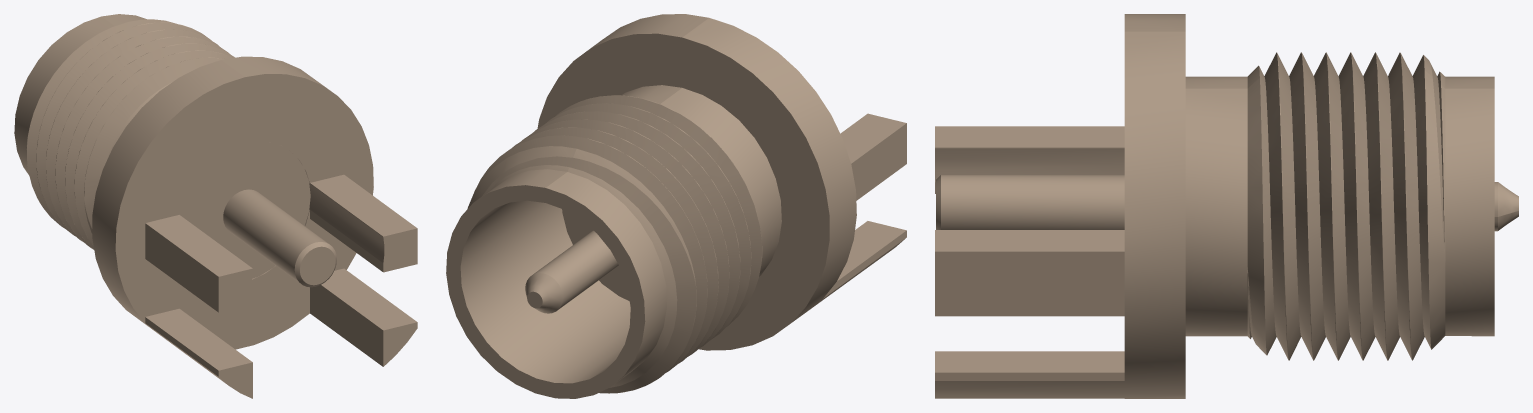
File: sfe-rp-sma-edge.glb
The picture shows the model from 3 angles, left to right: view 1: azimuth 30°, elevation 25°; view 2: azimuth 150°, elevation 25°; view 3: azimuth 270°, elevation 25°; orthographic projection. The views are drawn at different scales.
Parts seen in each view (by area): view 1: 0.4166666666666667_0.3333333333333333_0.25_0; view 2: 0.4166666666666667_0.3333333333333333_0.25_0; view 3: 0.4166666666666667_0.3333333333333333_0.25_0.
Boxes of the visible parts, box(x1,y1,x2,y2) form: 0.4166666666666667_0.3333333333333333_0.25_0: box(14, 14, 417, 398); 0.4166666666666667_0.3333333333333333_0.25_0: box(446, 14, 906, 398); 0.4166666666666667_0.3333333333333333_0.25_0: box(935, 14, 1518, 398).
Size of the model in its own units: 0.7921 by 0.793 by 1.2.
